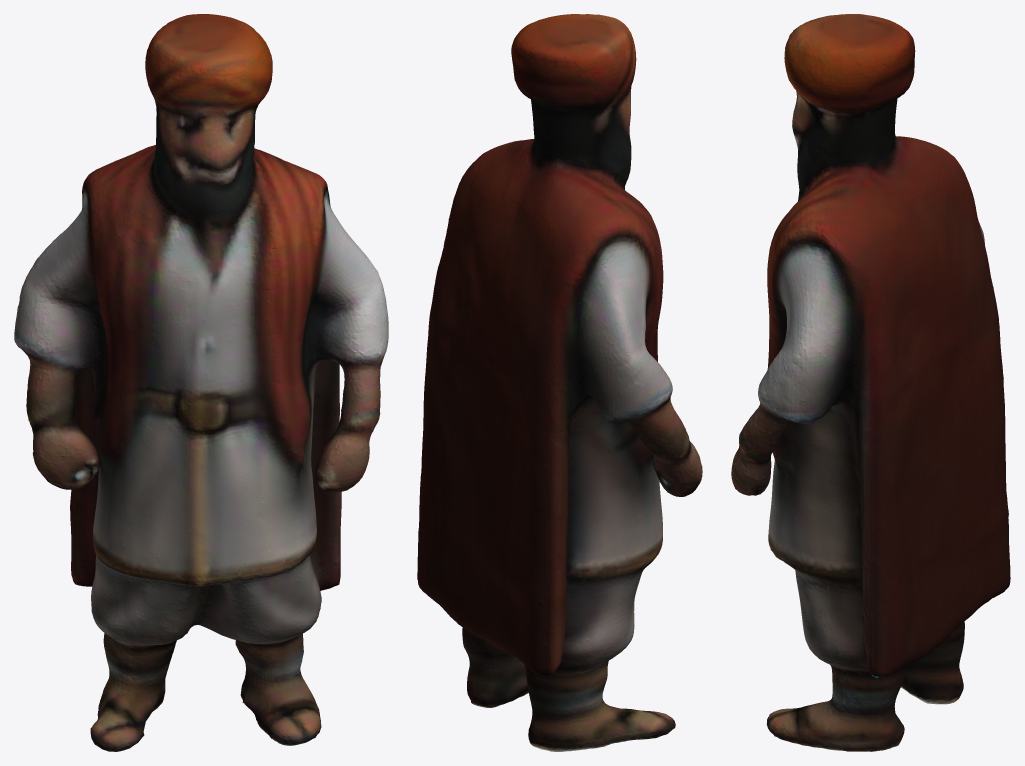
The model's file is mesh_with_colors.obj.
The picture shows the model from 3 angles, left to right: view 1: azimuth 30°, elevation 25°; view 2: azimuth 150°, elevation 25°; view 3: azimuth 270°, elevation 25°; orthographic projection. The views are drawn at different scales.
Bounding box in the file's own units: 0.478 × 1.05 × 0.3917.
